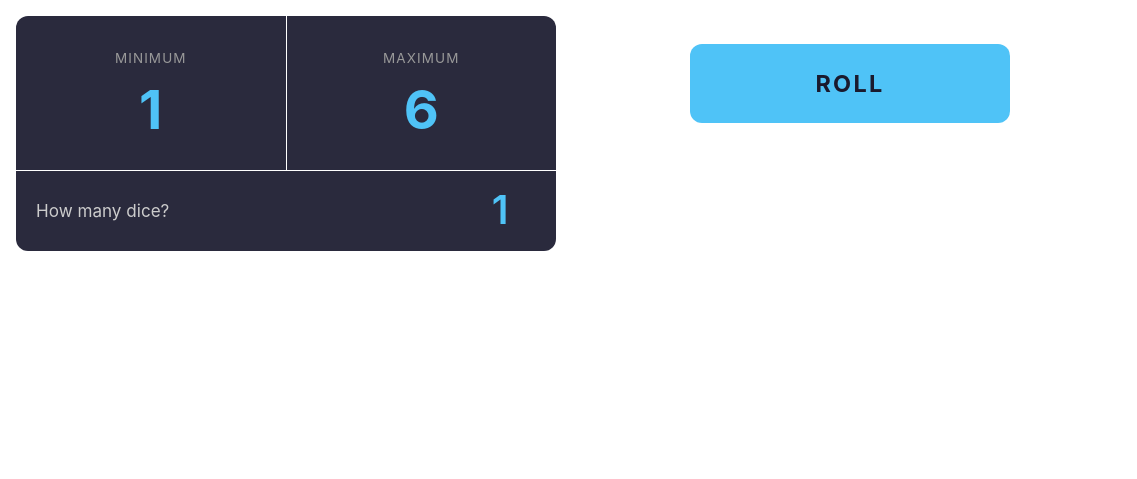
Test case: DiceRoll history › CLEAR empties the history and it stays empty after a remount
Click the button "ROLL": coordinates (850, 84) left=690, top=44, right=1010, bottom=124
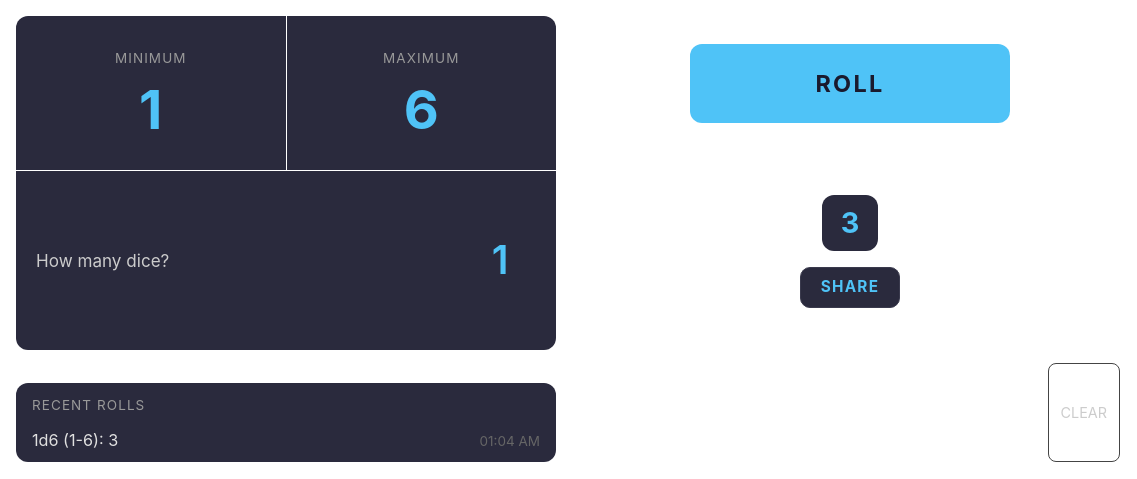
Click the button "CLEAR": coordinates (1084, 413) left=1048, top=363, right=1120, bottom=462
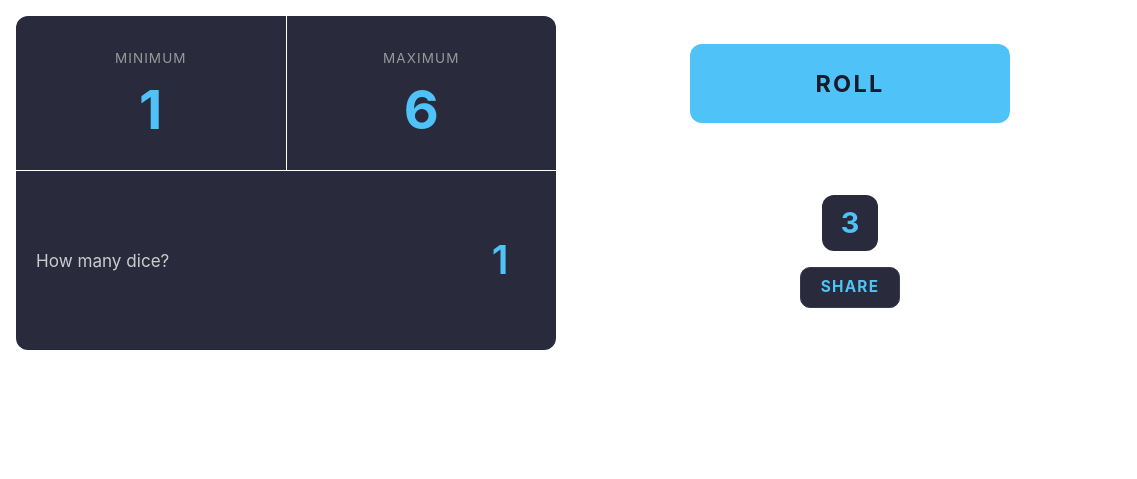
Check: the text "Recent rolls" is gone
